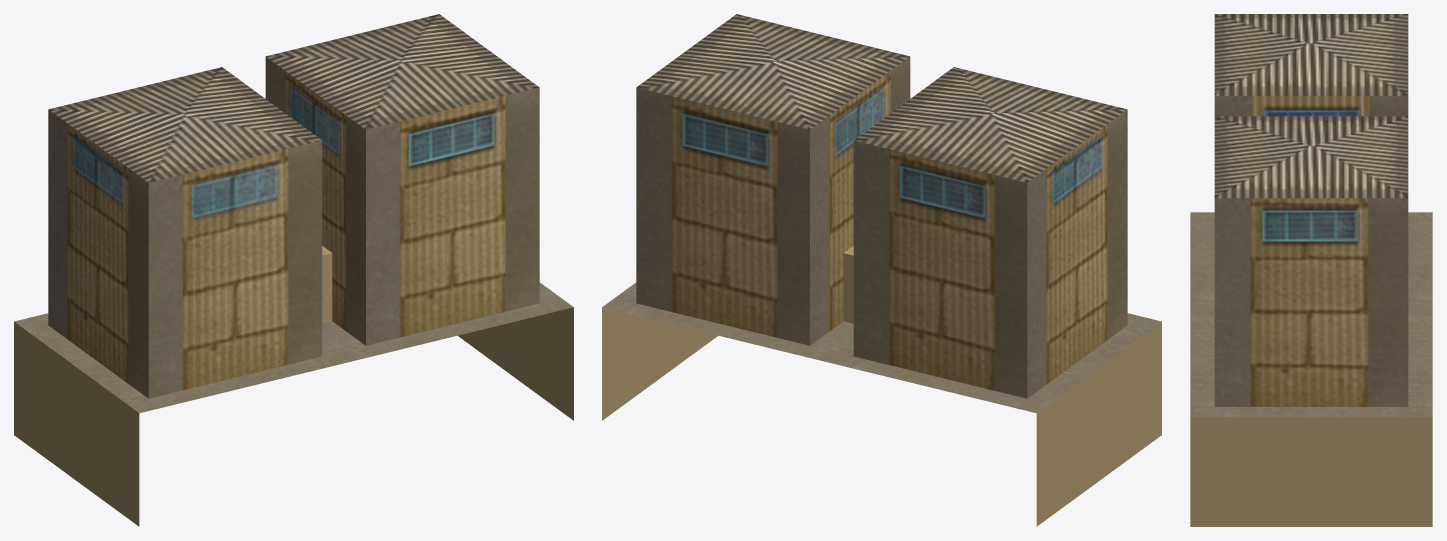
File: powerplant_res.fbx
3 views of the same model, side by side, from view 1: azimuth 30°, elevation 25°; view 2: azimuth 150°, elevation 25°; view 3: azimuth 270°, elevation 25° (orthographic). The views are drawn at different scales.
Parts seen in each view (by area): view 1: Cube; view 2: Cube; view 3: Cube.
Part boxes in pixels (bbox=[...]): Cube: bbox=[14, 14, 573, 526]; Cube: bbox=[602, 14, 1161, 526]; Cube: bbox=[1190, 14, 1432, 526].
Size of the model in its own units: 400 by 300 by 200.
Materials: 1 (1 with a texture image).
